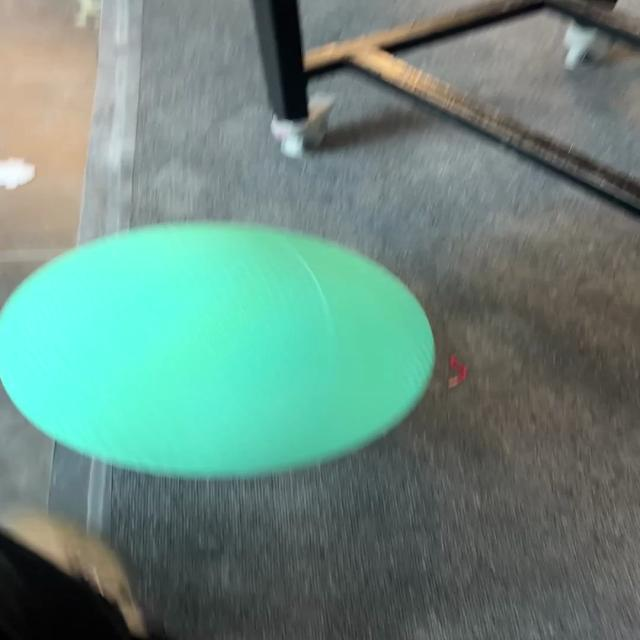Algae: (1, 220, 437, 481)
